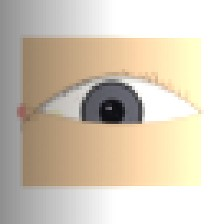pinguecula_lesion: (41, 104, 70, 128)
